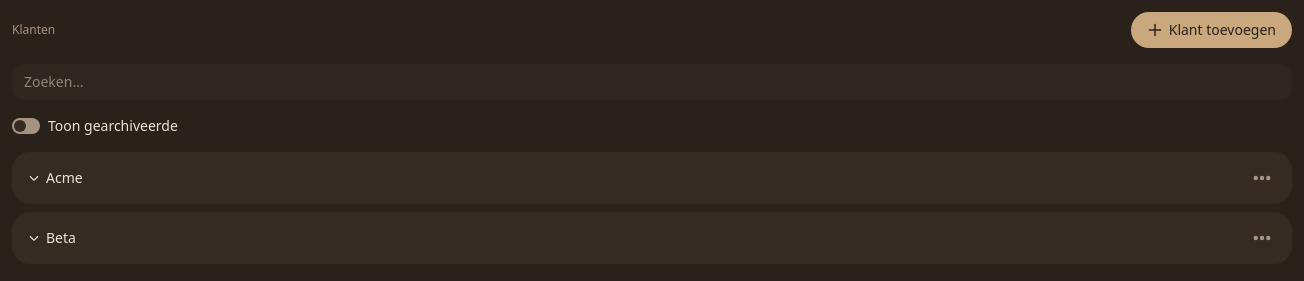
Scenario: searching › filters clients by name
expect the button "Acme" is shown: met, box [28,168,83,188]
expect the button "Beta" is shown: met, box [28,228,76,248]
In the search field with placeholder "Zoeken…": (652, 82) [12,64,1292,100], type "Acm"
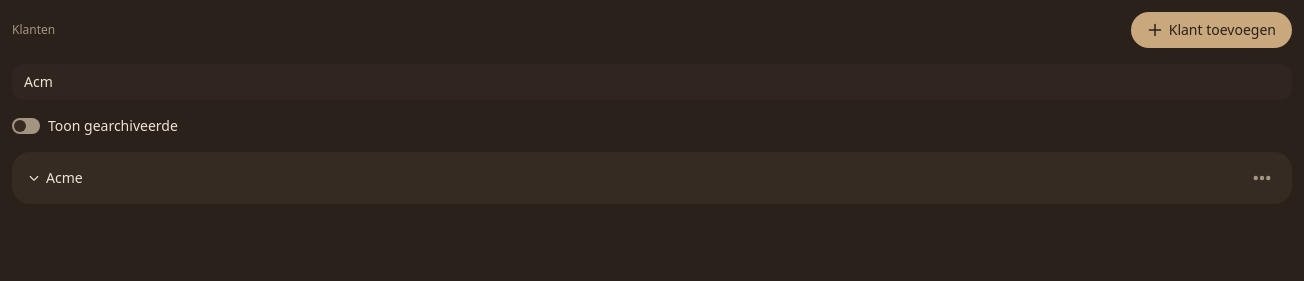
expect the button "Acme" is shown: met, box [28,168,83,188]
expect the button "Beta" is gone: met
